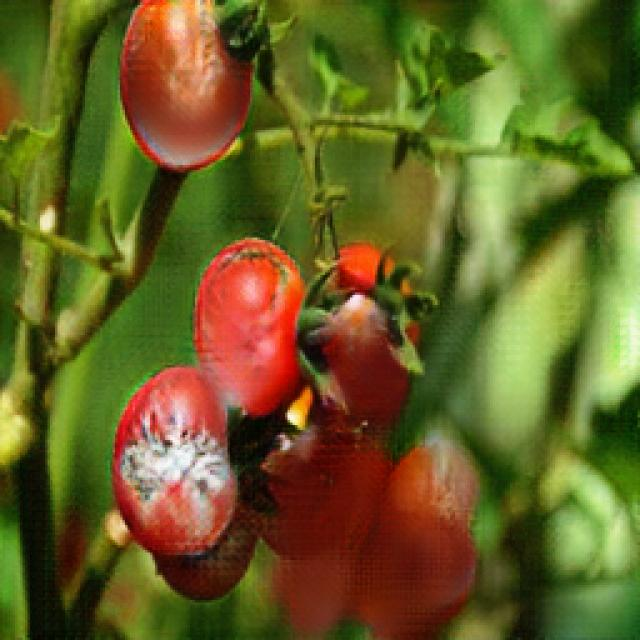overripe tomato: (110, 365, 246, 561), (120, 1, 260, 173), (301, 237, 426, 423), (192, 228, 308, 421)
